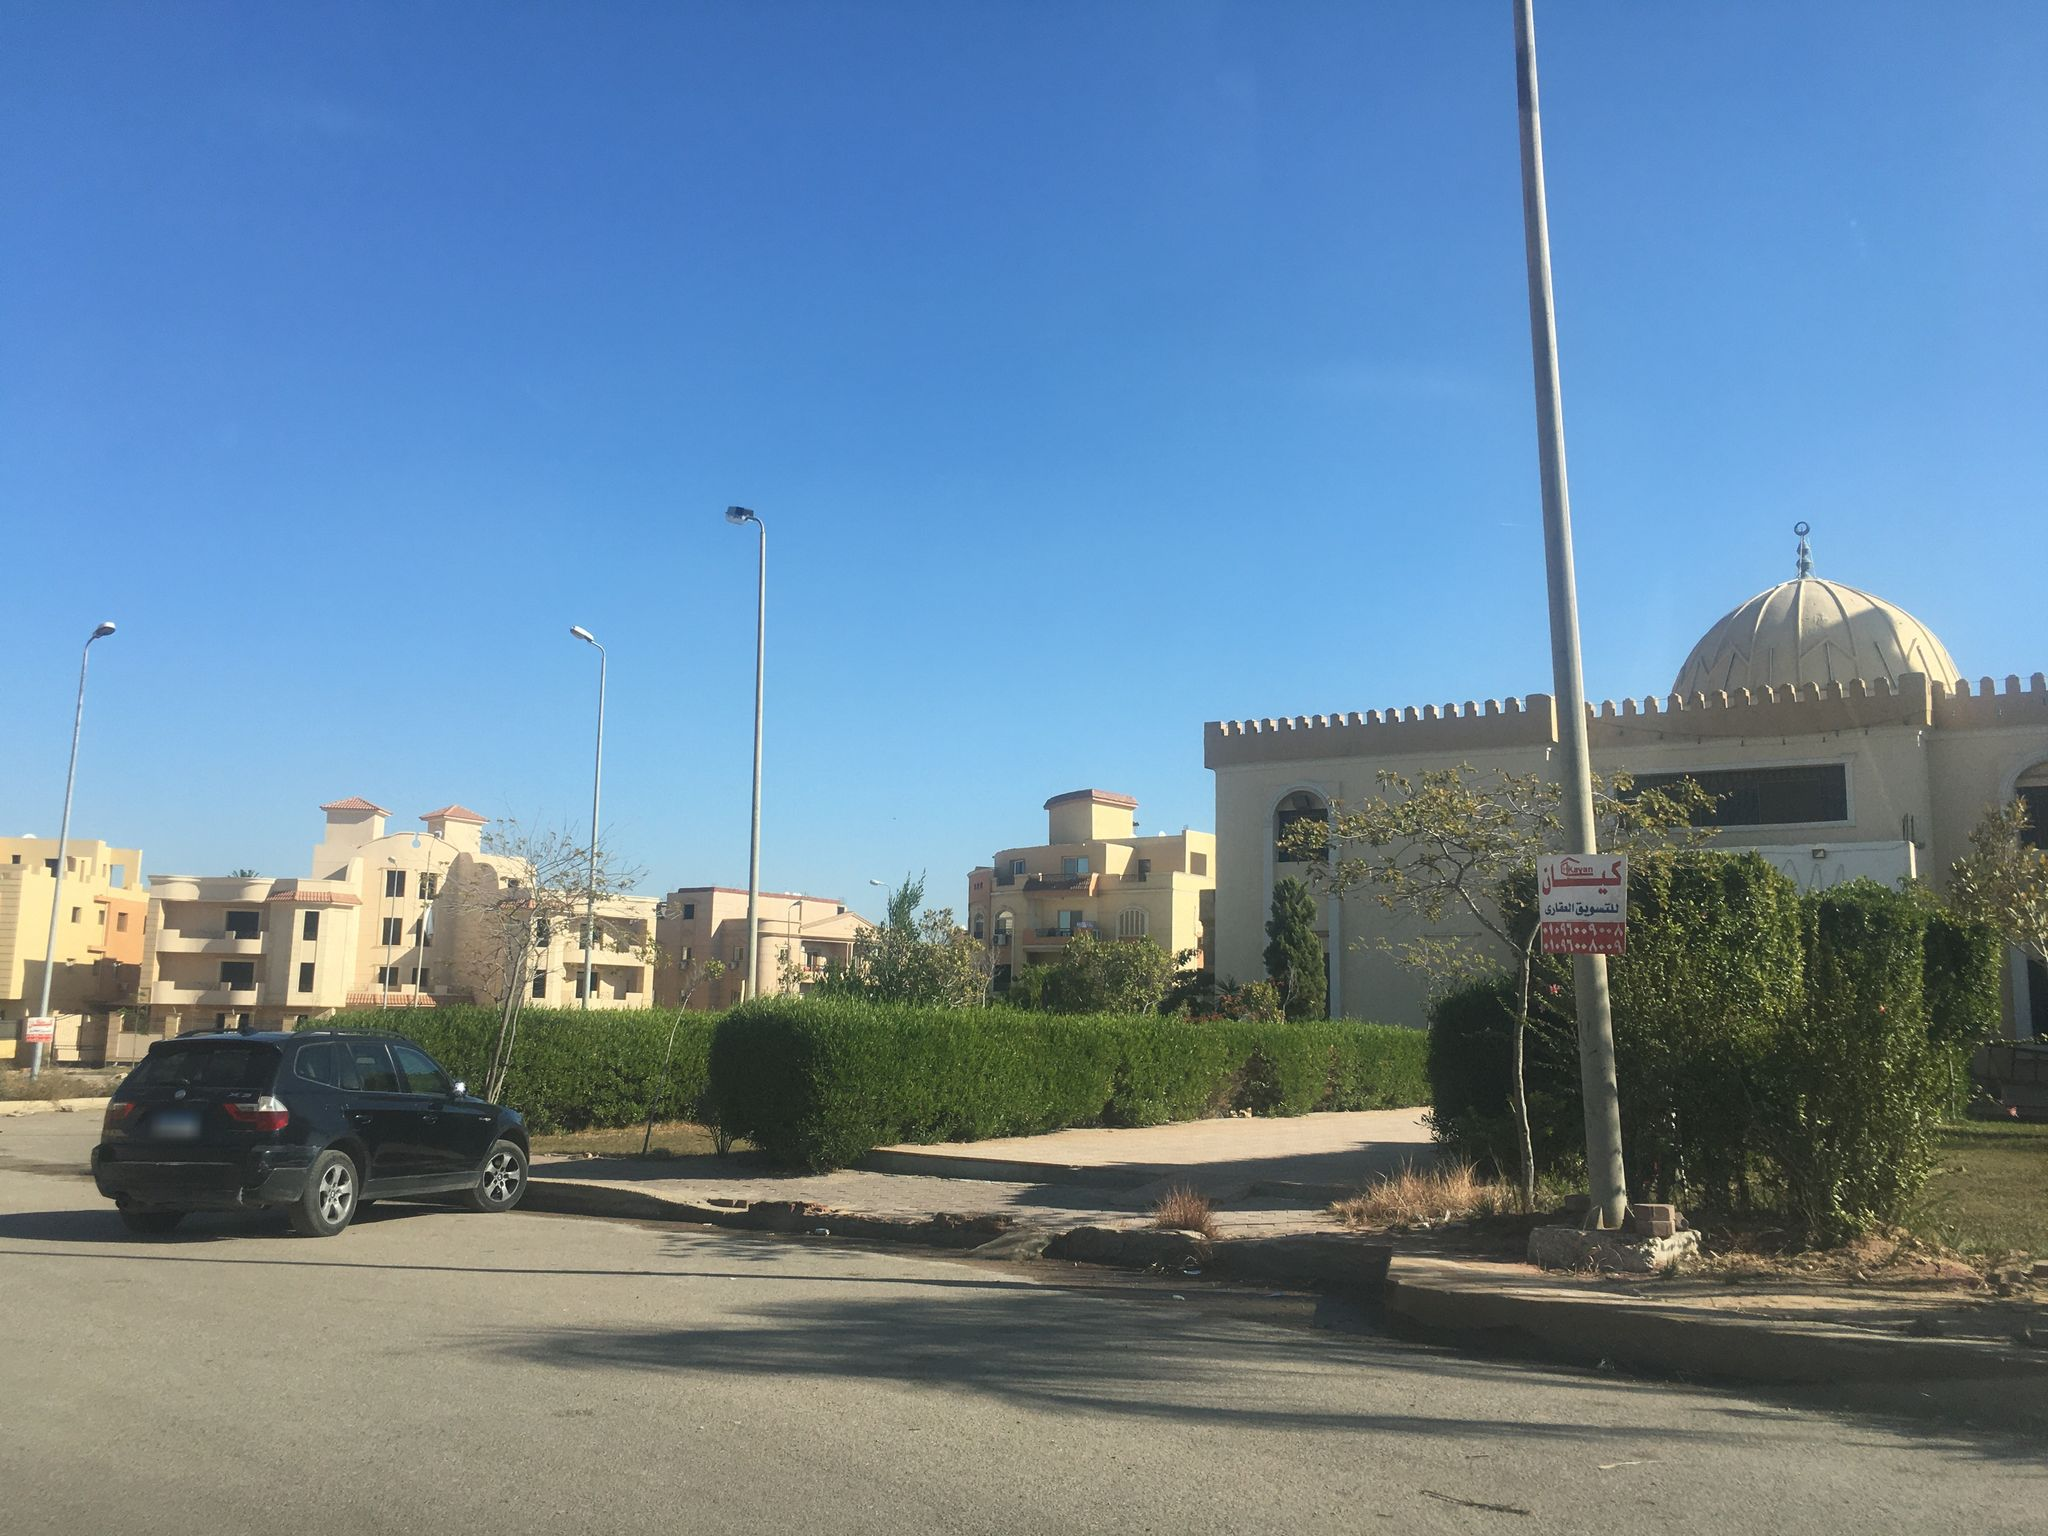car: (85, 1021, 534, 1238)
